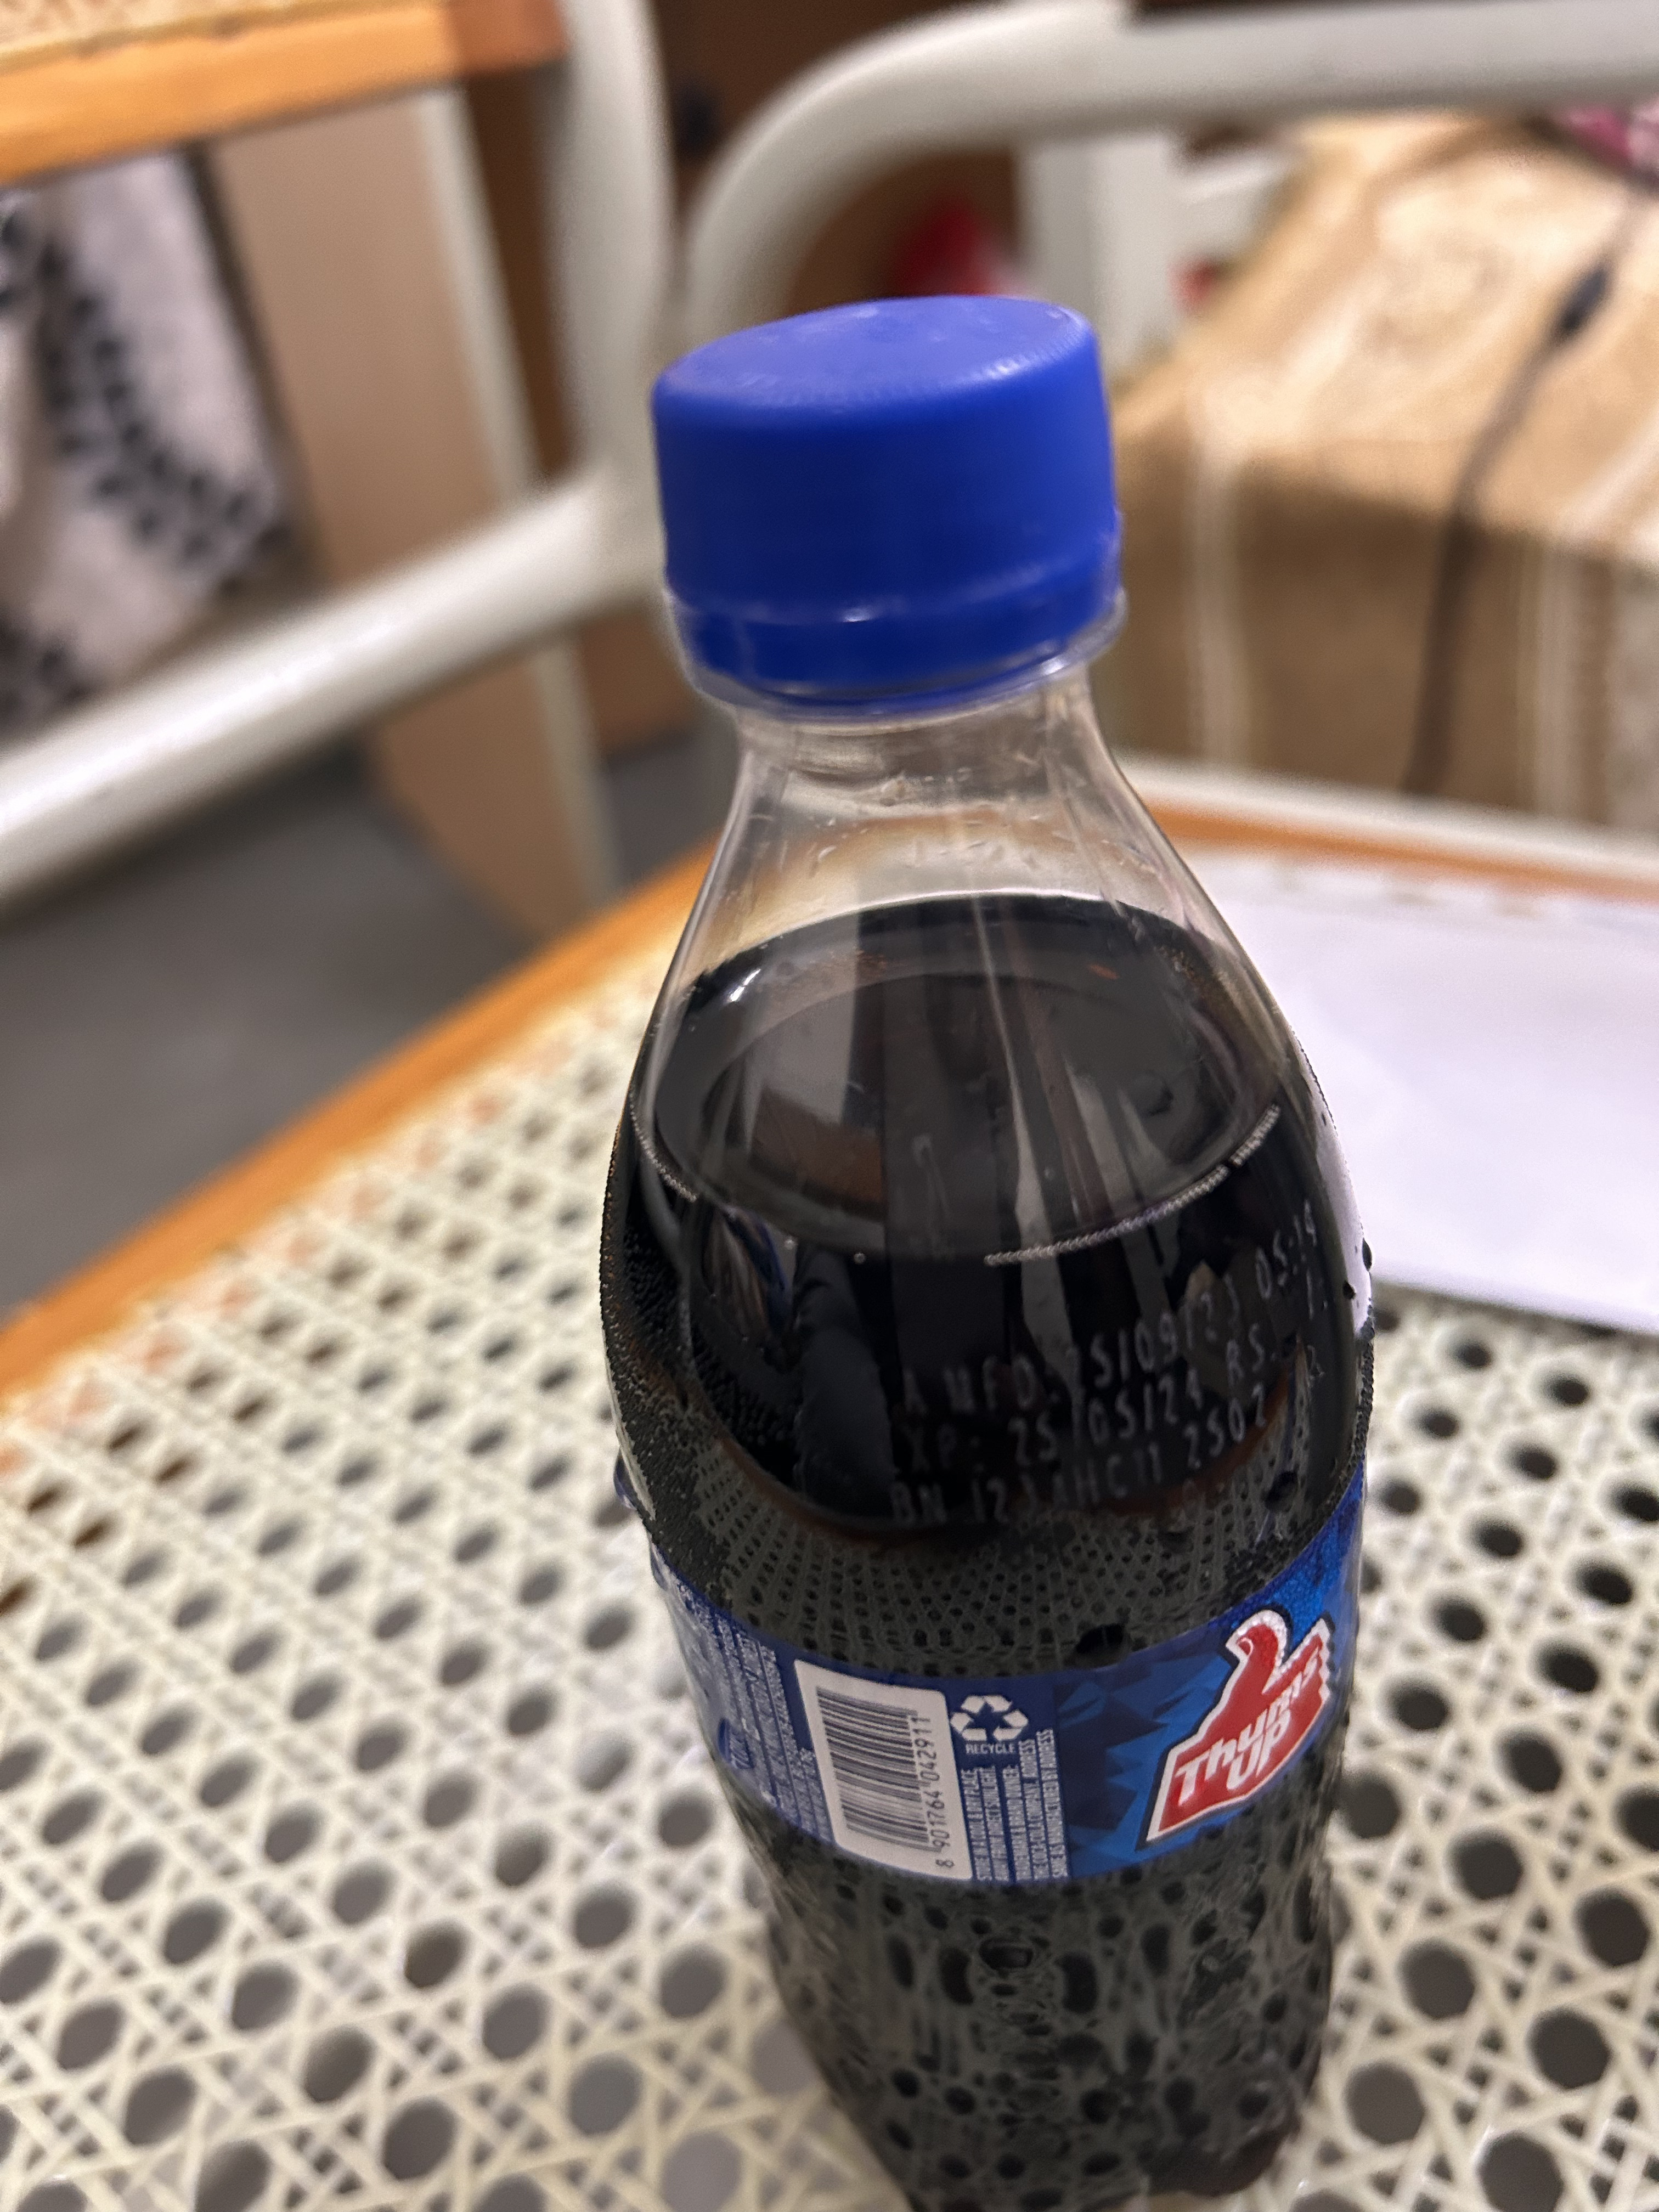sealstable: (601, 303, 1182, 784)
